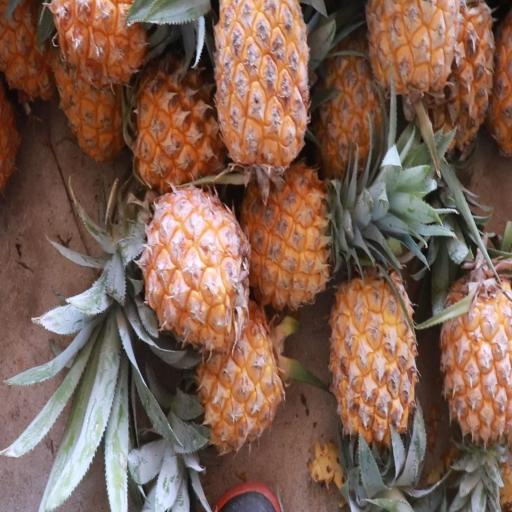Pineapple - v8 v1: (329, 258, 421, 468), (140, 184, 254, 352), (210, 0, 310, 183), (190, 281, 288, 454), (238, 152, 339, 315), (439, 254, 512, 454), (132, 46, 226, 195), (366, 2, 461, 116)
